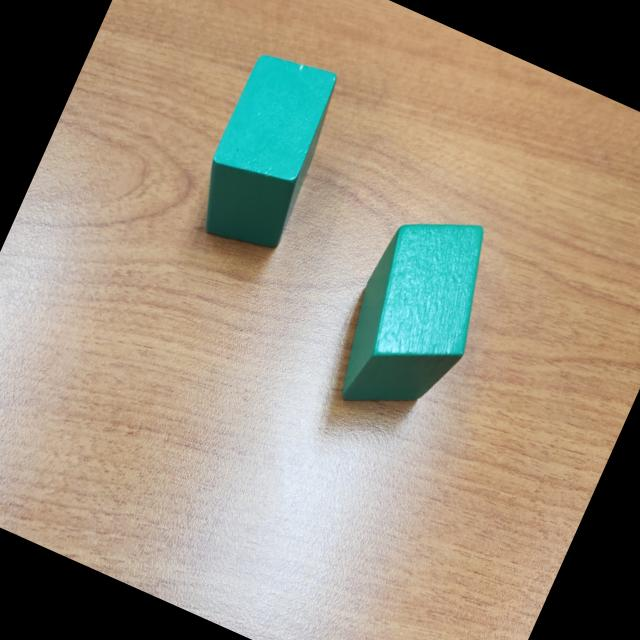green: (317, 192, 514, 440), (182, 42, 352, 264)
